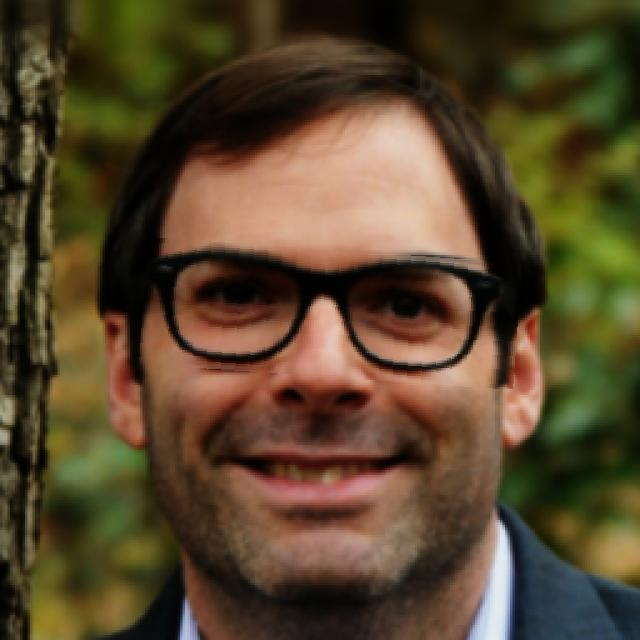glasses: (141, 244, 520, 383)
